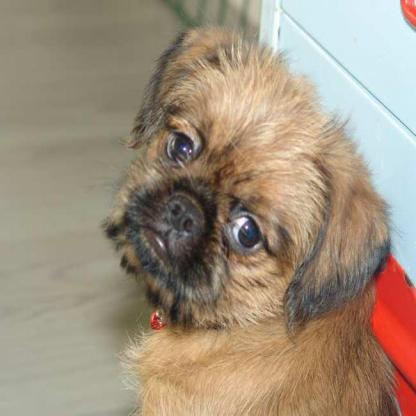Brabancon_griffon: (99, 23, 400, 414)
